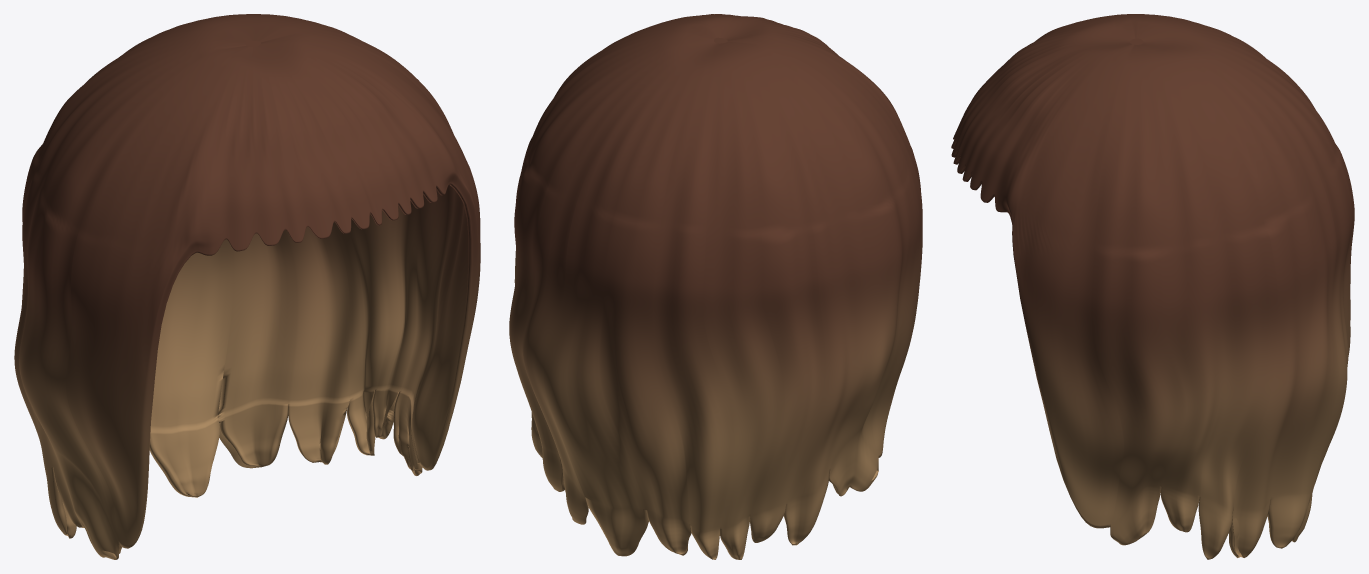
Rendered from long-cowboy-ombre.glb.
3 renders of one model, left to right at view 1: azimuth 30°, elevation 25°; view 2: azimuth 150°, elevation 25°; view 3: azimuth 270°, elevation 25°, orthographic. The views are drawn at different scales.
Visible parts, largest first — view 1: Hair / rounded long fringe; view 2: Hair / rounded long fringe; view 3: Hair / rounded long fringe.
Boxes of the visible parts, x1,y1,x2,y2 form: Hair / rounded long fringe: [14, 14, 480, 559]; Hair / rounded long fringe: [509, 14, 922, 559]; Hair / rounded long fringe: [951, 14, 1354, 559].
Bounding box in the file's own units: 0.8536 × 1.05 × 0.7801.
